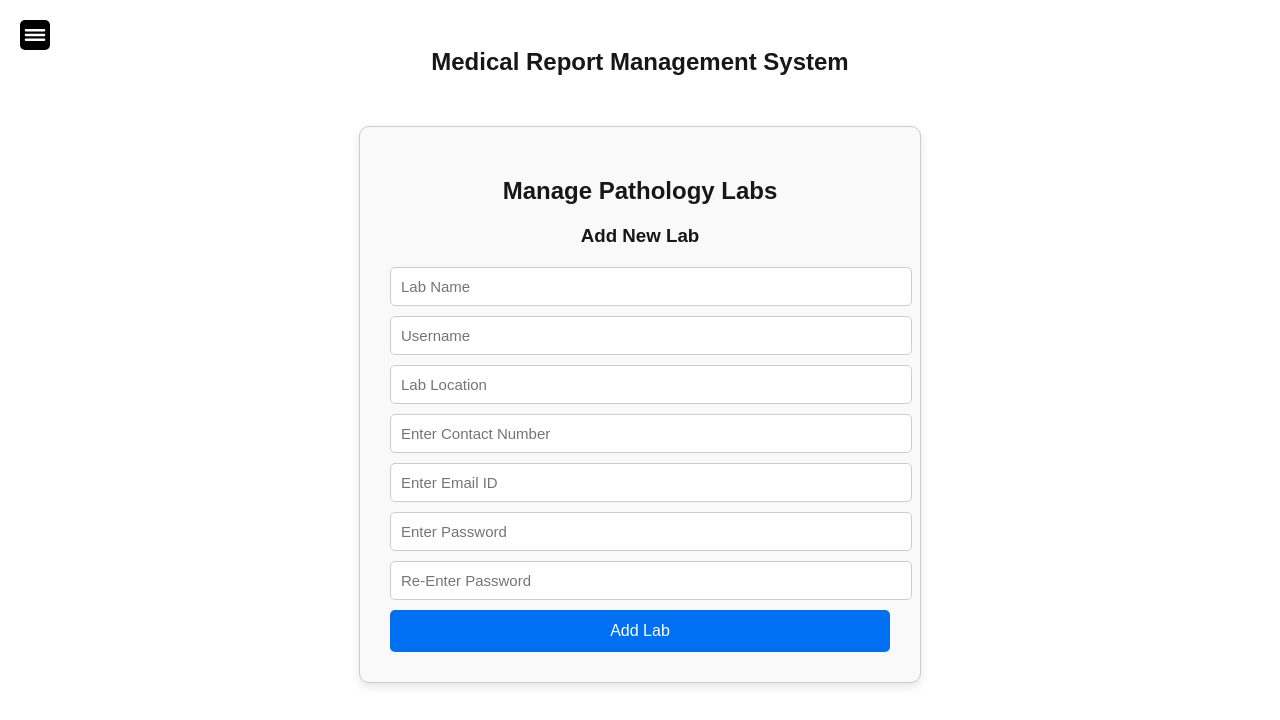
Scenario: ManageLab Component › shows password mismatch error in the first form
Step 1. Type "password123" into the password field with placeholder "Enter Password" → (651, 531), box top-left (390, 512), bottom-right (912, 551)
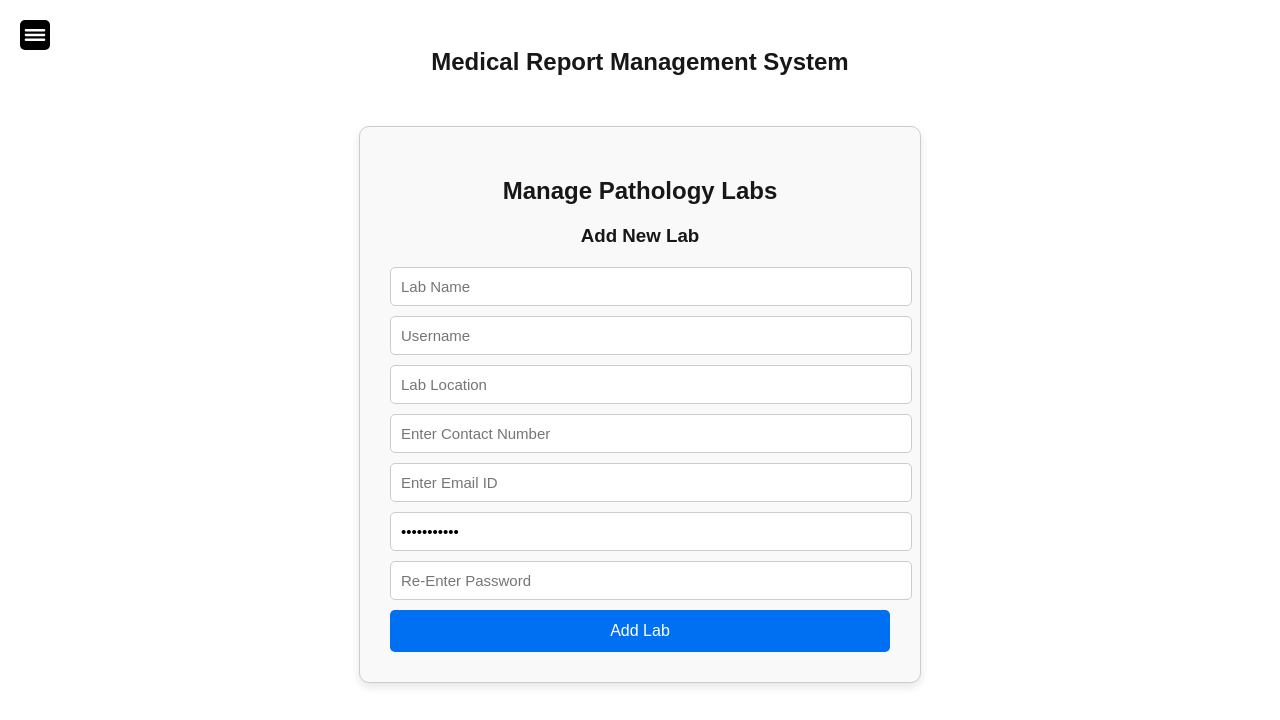
Step 2. Type "wrongPassword" into the password field with placeholder "Re-Enter Password" → (651, 580), box top-left (390, 561), bottom-right (912, 600)
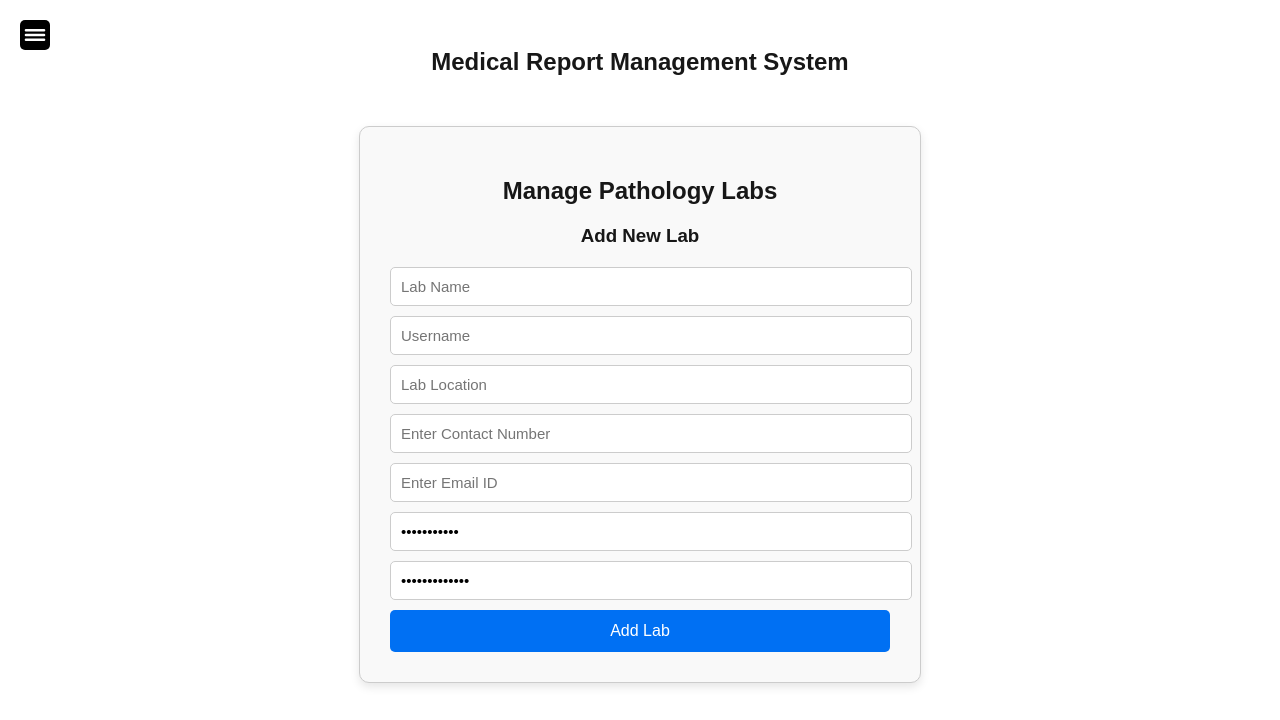
Step 3. Click the button "Add Lab" → (640, 631), box top-left (390, 610), bottom-right (890, 652)
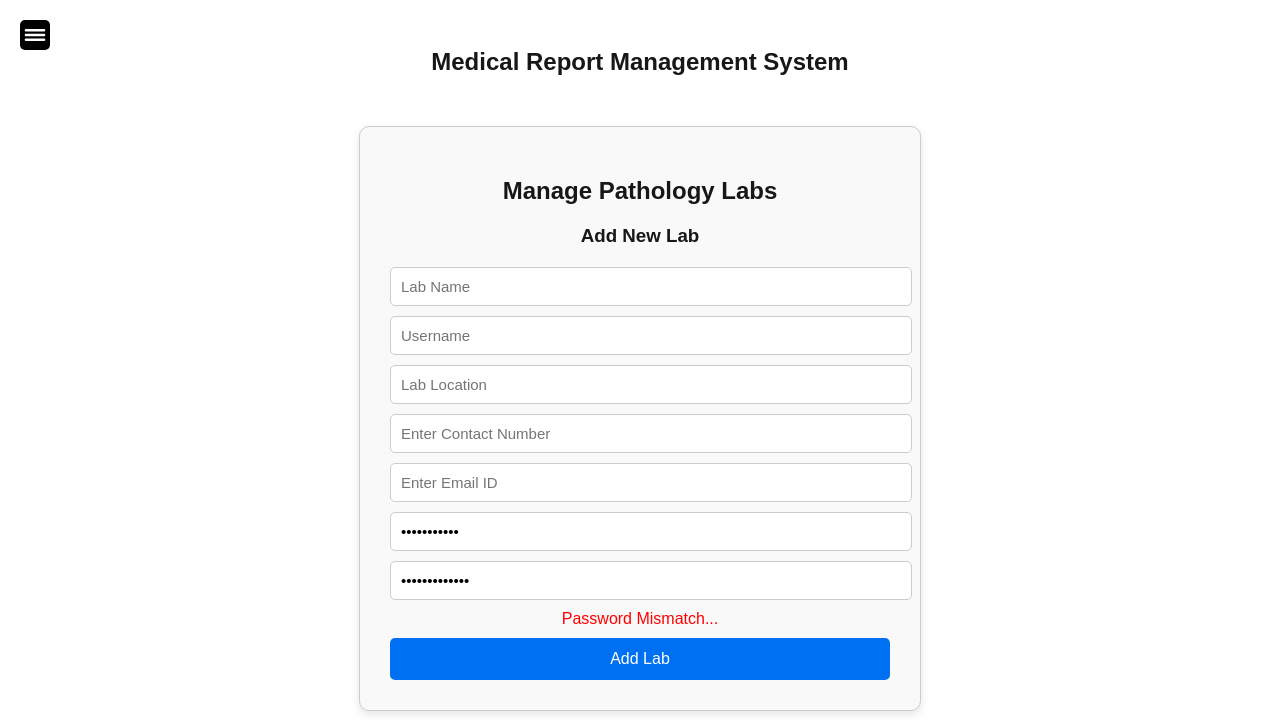
Result: the text "Password Mismatch..." is shown at top-left (562, 610), bottom-right (718, 627)
